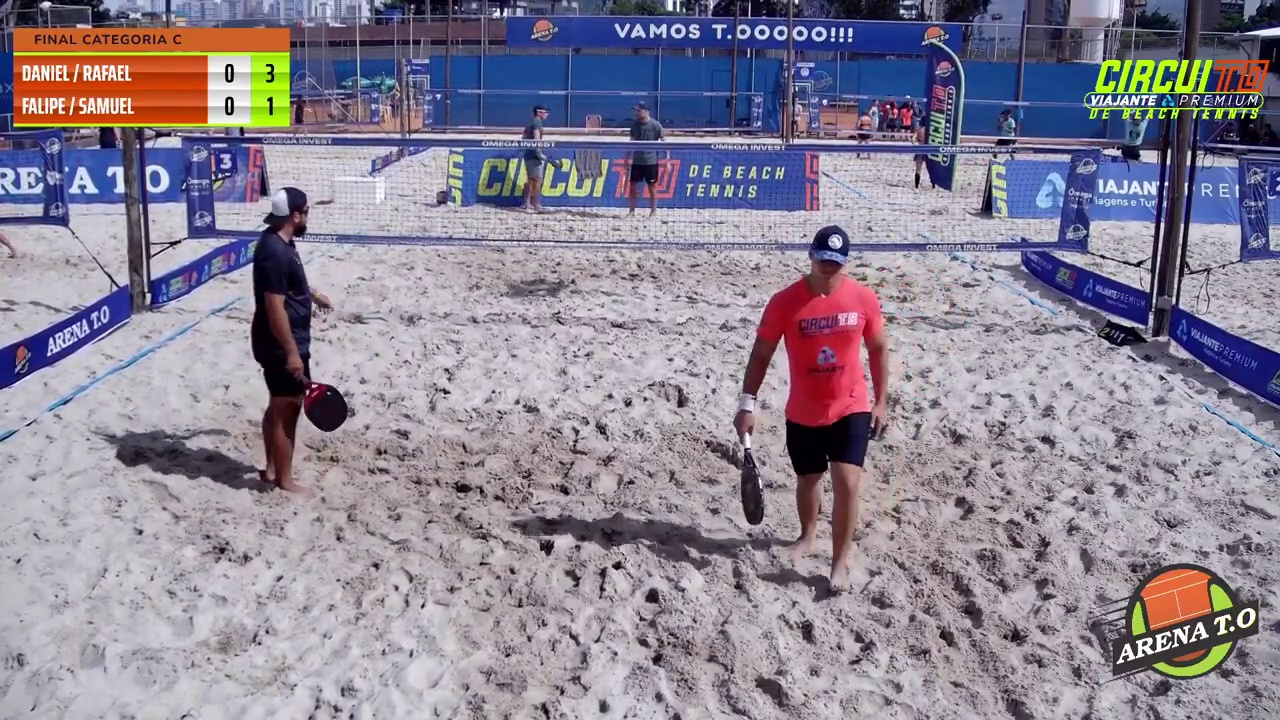court_line: (645, 0, 815, 457)
